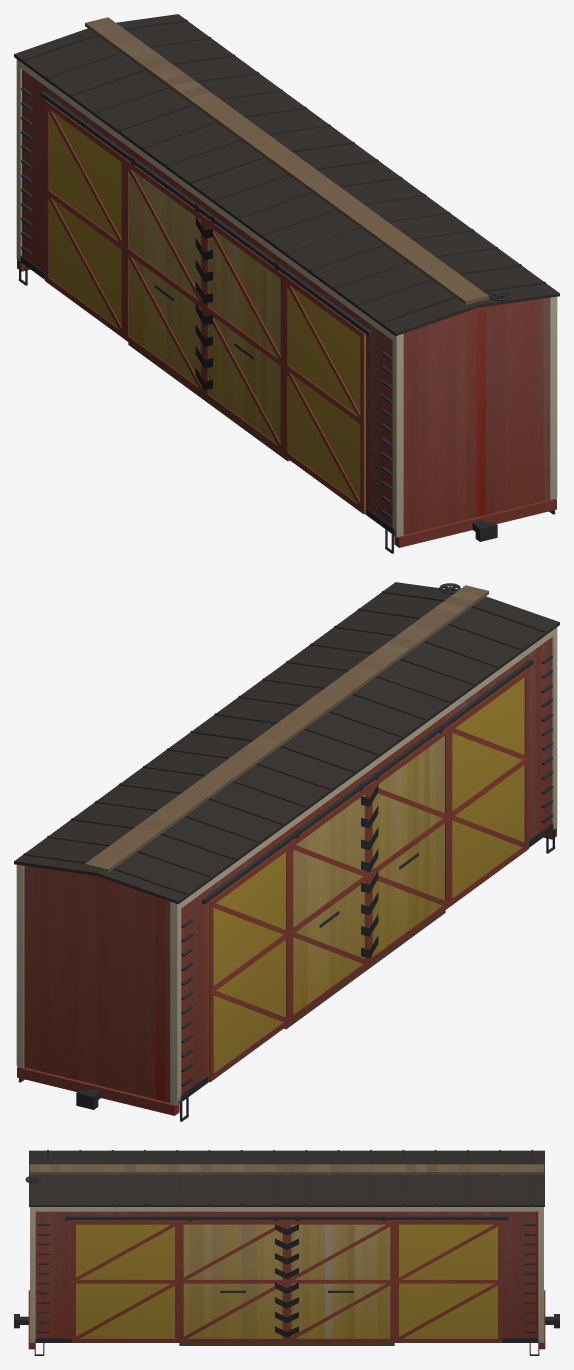
Rendered from gate.glb.
3 views of the same model, one above another, from view 1: azimuth 30°, elevation 25°; view 2: azimuth 150°, elevation 25°; view 3: azimuth 270°, elevation 25° (orthographic). The views are drawn at different scales.
Parts seen in each view (by area): view 1: Body, Far, Door_LF, Door_LB; view 2: Body, Far, Door_LB, Door_LF; view 3: Body, Far, Door_RB, Door_RF.
Boxes of the visible parts, box(x1,y1,x2,y2) form: Body: box(14, 14, 559, 553); Far: box(22, 18, 549, 534); Door_LF: box(124, 157, 204, 397); Door_LB: box(204, 216, 284, 455); Body: box(14, 582, 559, 1121); Far: box(24, 584, 551, 1101); Door_LB: box(369, 725, 449, 965); Door_LF: box(289, 784, 369, 1023); Body: box(14, 1150, 559, 1355); Far: box(26, 1164, 543, 1342); Door_RB: box(179, 1216, 286, 1342); Door_RF: box(287, 1216, 394, 1342).
Bounding box in the file's own units: 6 × 8.27 × 25.36.
